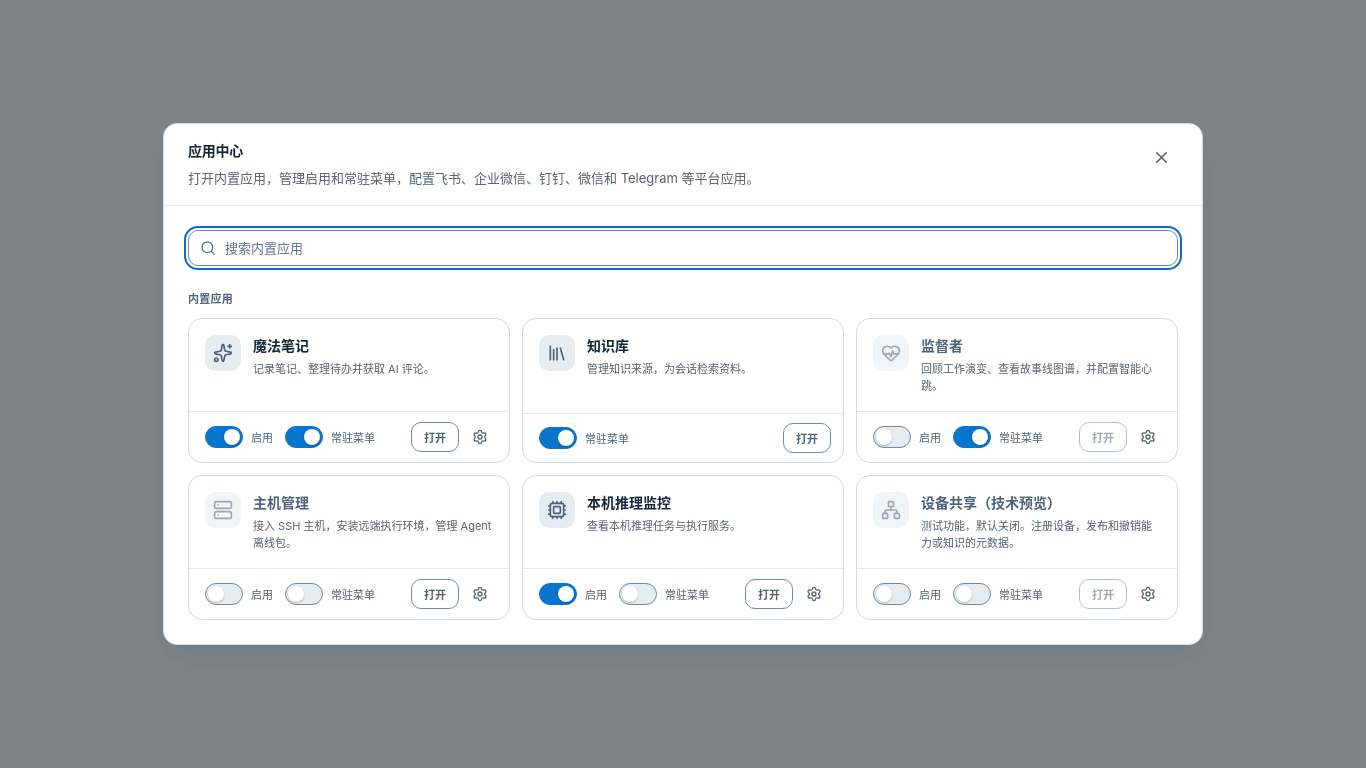
Test: Application Center › returns from compact settings through header navigation without losing the search
The width and height of the screenshot is (1366, 768).
Type "笔记" into the search field.
click(683, 248); type("笔记")  # box [188,230,1178,266]
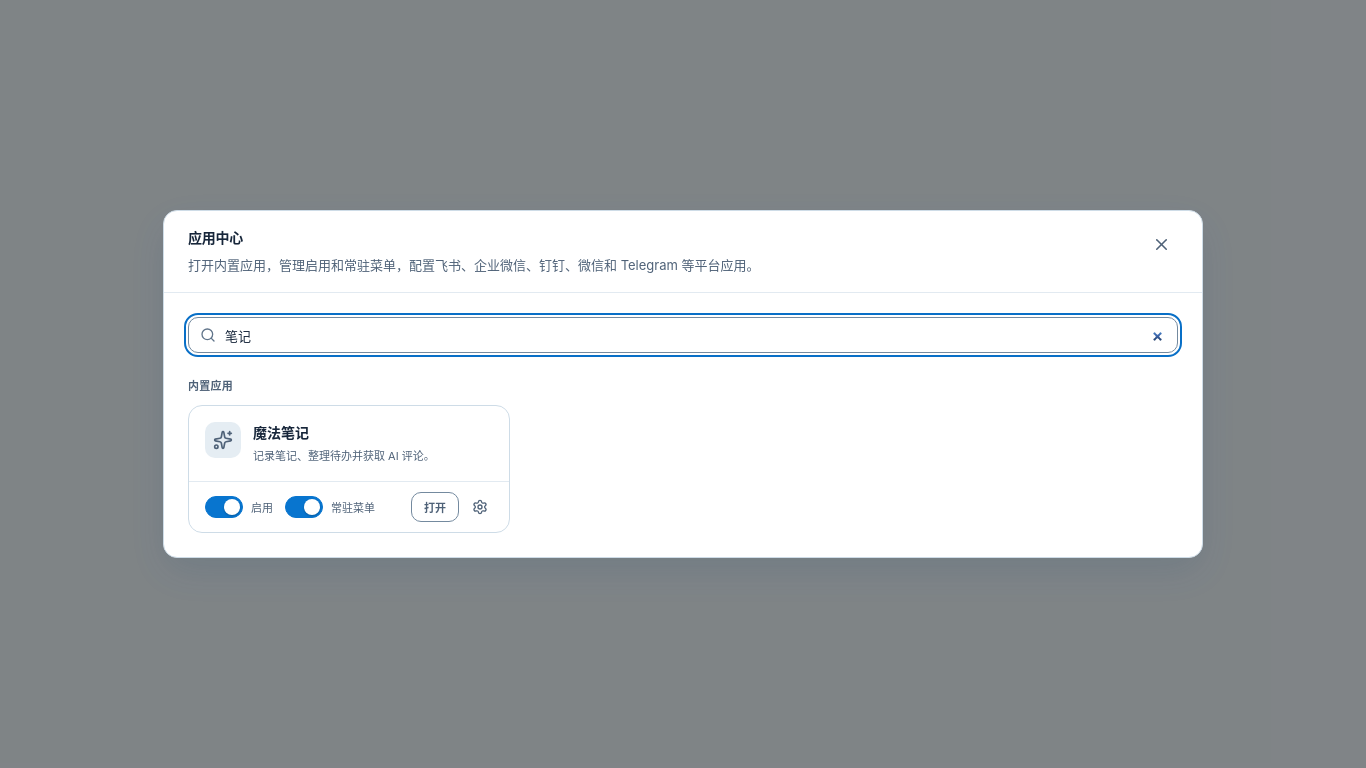
Click the button named "魔法笔记 应用设置".
click(480, 507)  # box [463,490,497,524]
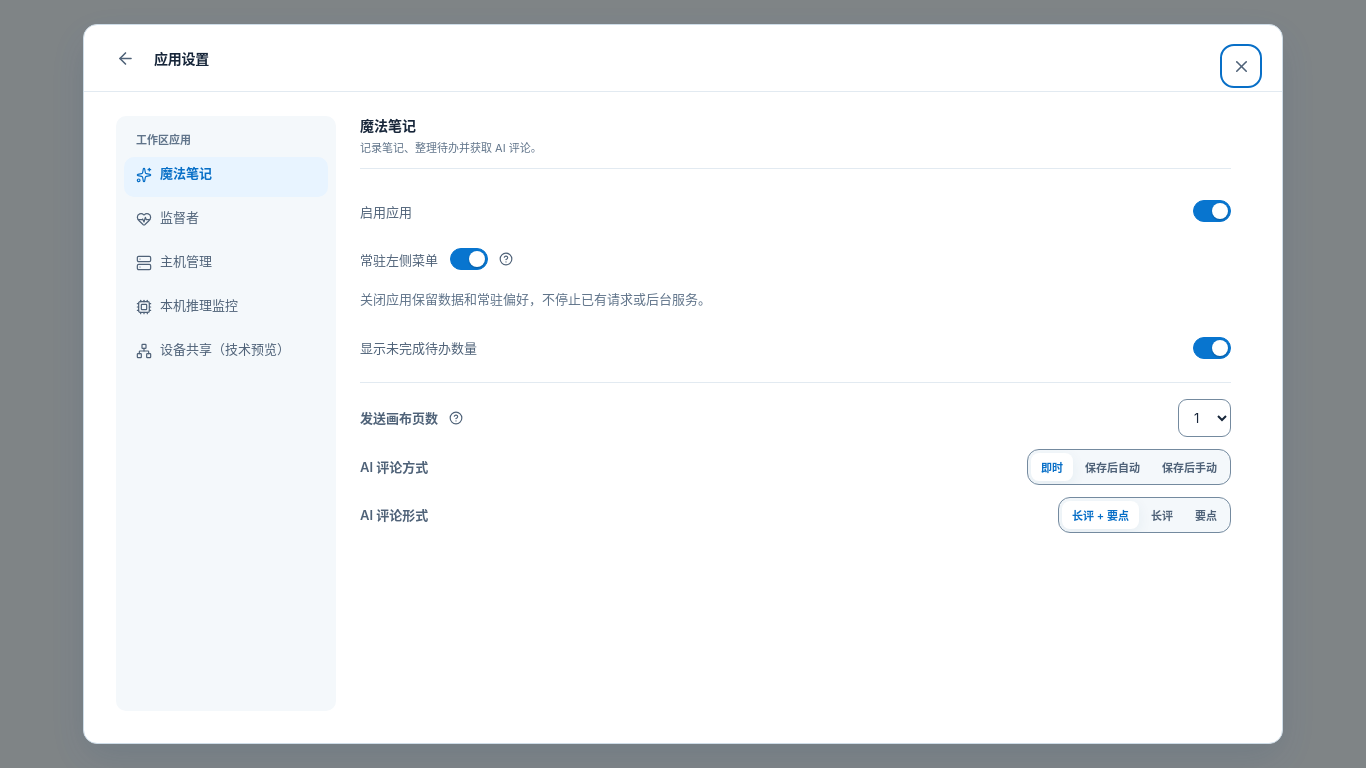
Expected: the dialog "魔法笔记" has class "application-center--detail"
Click the tab "监督者".
click(226, 220)  # box [124,200,328,240]
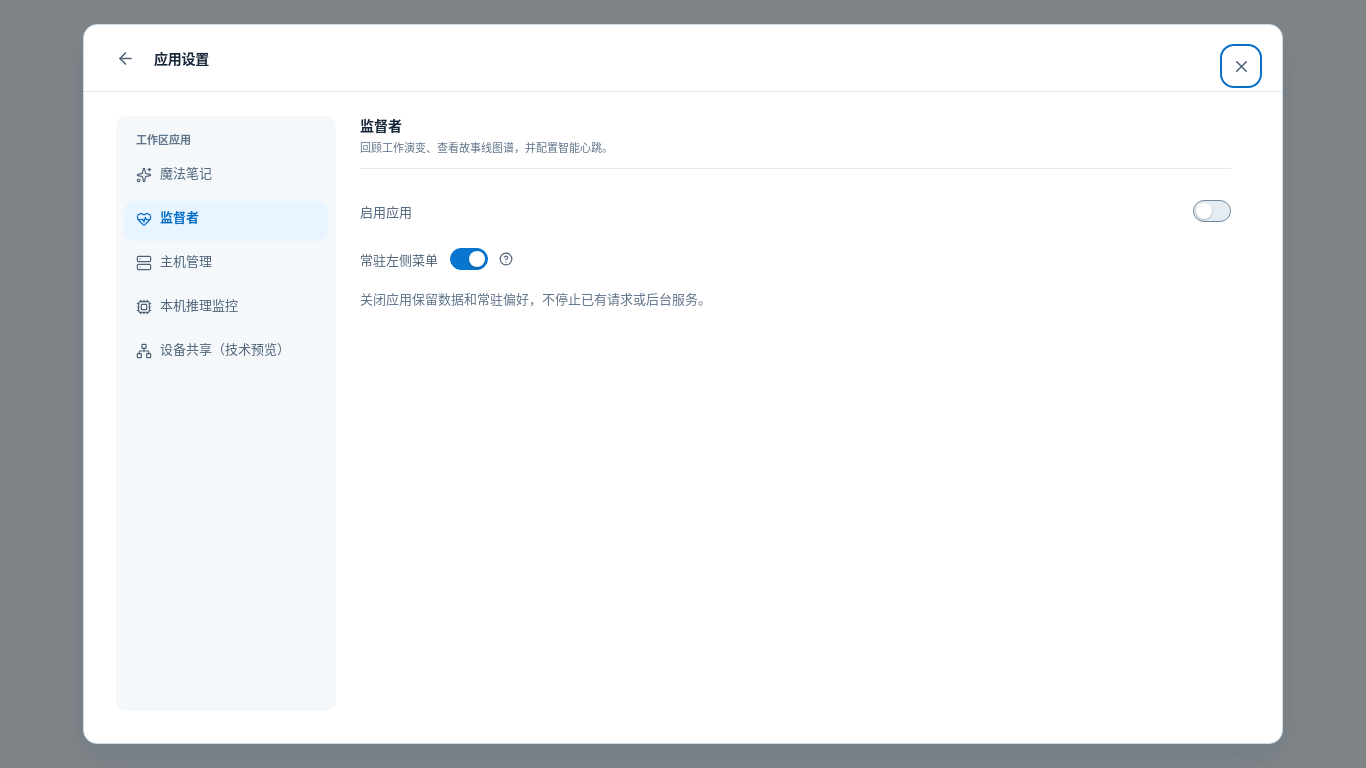
Expected: the switch labelled "启用应用" is shown, [1193,200,1231,222]
Expected: the element named "返回应用中心" is shown, [84,25,1282,92]
Click the button named "返回应用中心".
click(125, 58)  # box [108,41,142,75]
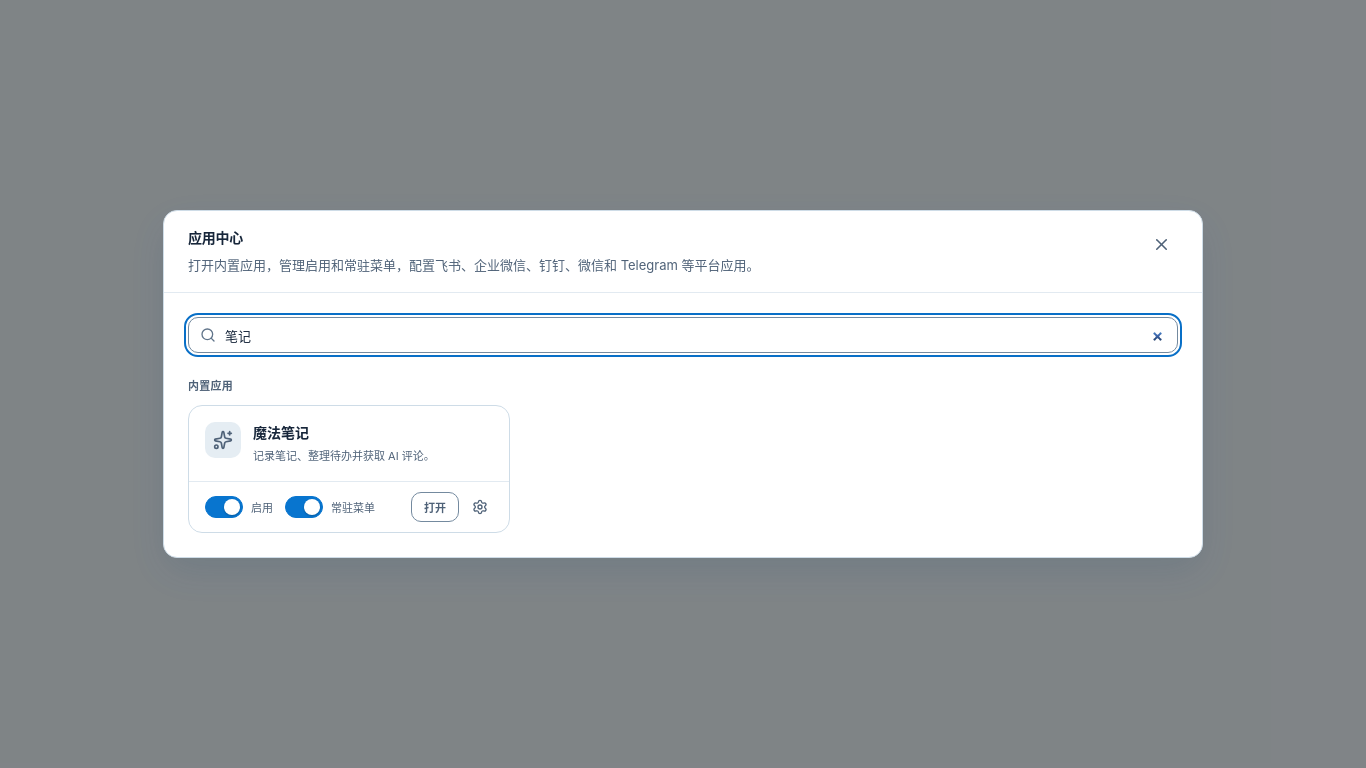
Expected: the search field holds "笔记", [188,317,1178,353]
